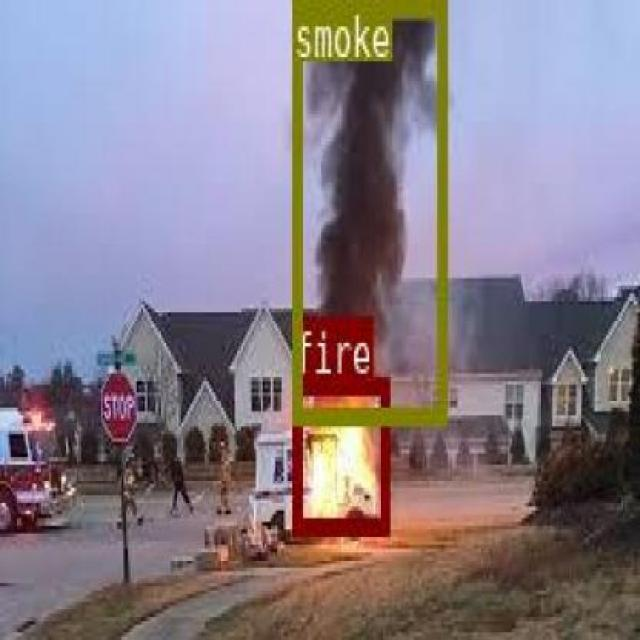Fire: (292, 375, 388, 531)
Smoke: (290, 0, 444, 423)
